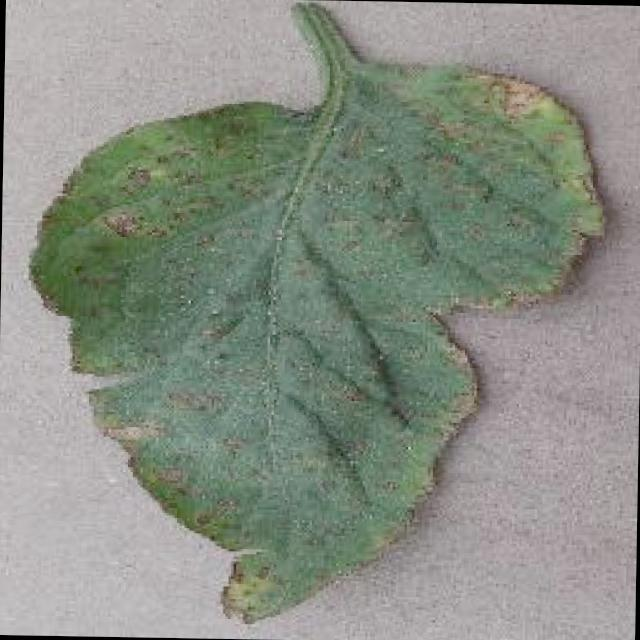Tomato bacterial spot leaf: (21, 54, 616, 638)
